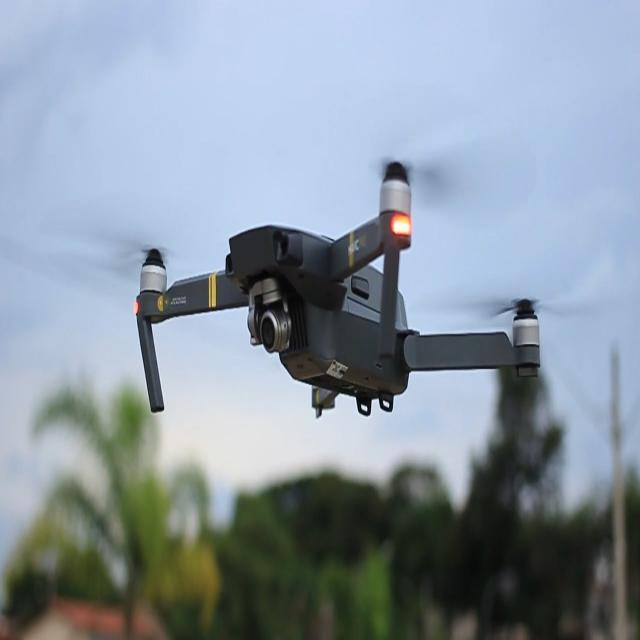Drone: (133, 156, 539, 415)
